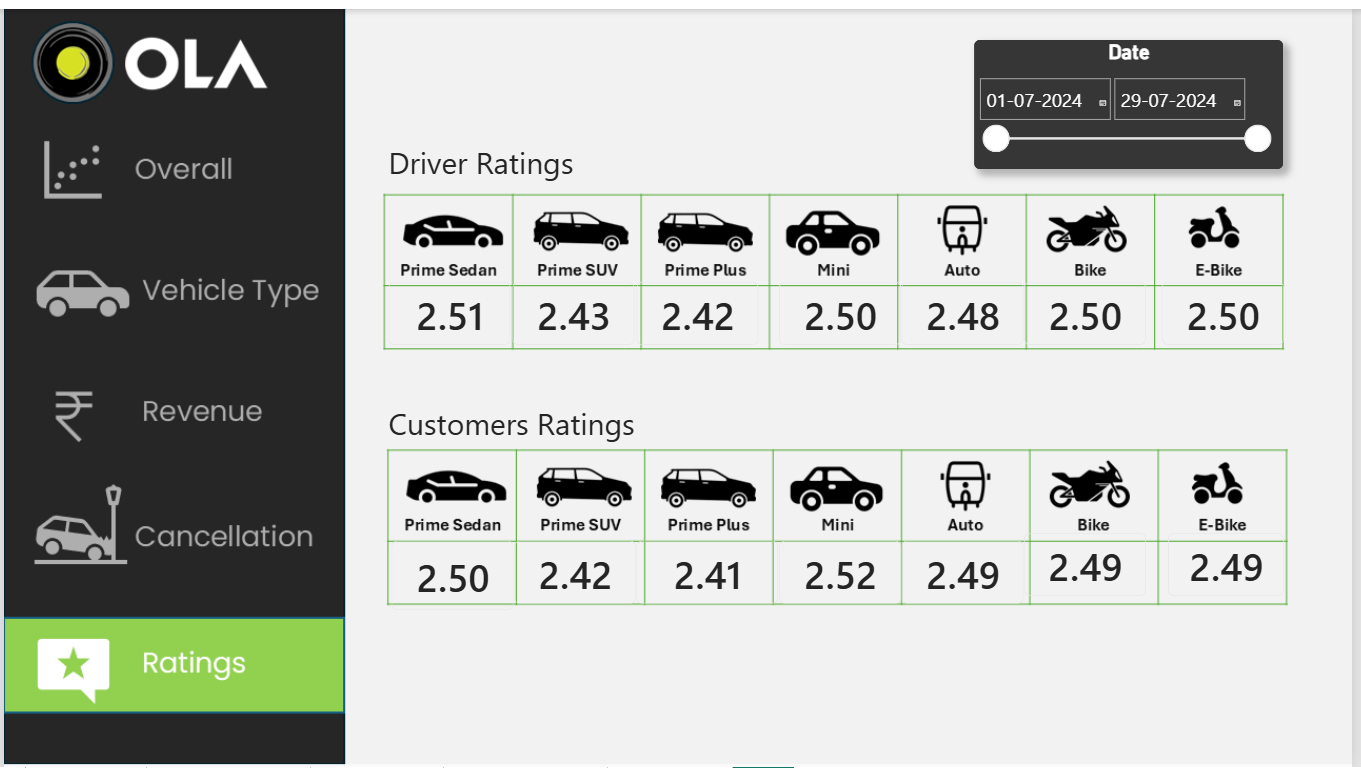

The page's visual inventory and layout, read from the dashboard file:
{"tool":"powerbi","page":{"name":"Ratings","canvas":[1920,1080],"ordinal":4},"visuals":[{"type":"actionButton","box":[0,161.2,486,133.5],"z":0},{"type":"actionButton","box":[0,347.5,486,133.5],"z":1000},{"type":"actionButton","box":[10.1,516.3,486,133.5],"z":2000},{"type":"actionButton","box":[10.1,679.9,486,133.5],"z":3000},{"type":"cardVisual","fields":{"Data":["Avg(bookings (2).Driver_Ratings)"]},"box":[548.8,389,174.9,90.5],"z":3001},{"type":"cardVisual","fields":{"Data":["Avg(bookings (2).Driver_Ratings)"]},"box":[901.6,389,174.9,90.5],"z":3003},{"type":"cardVisual","fields":{"Data":["Avg(bookings (2).Driver_Ratings)"]},"box":[1103.6,389,174.9,90.5],"z":3004},{"type":"cardVisual","fields":{"Data":["Avg(bookings (2).Driver_Ratings)"]},"box":[1278.5,389,174.9,90.5],"z":3005},{"type":"cardVisual","fields":{"Data":["Avg(bookings (2).Driver_Ratings)"]},"box":[1453.3,389,174.9,90.5],"z":3006},{"type":"cardVisual","fields":{"Data":["Avg(bookings (2).Driver_Ratings)"]},"box":[1649.3,389,174.9,90.5],"z":3007},{"type":"cardVisual","fields":{"Data":["Avg(bookings (2).Driver_Ratings)"]},"box":[723.7,389,174.9,90.5],"z":3008},{"type":"cardVisual","fields":{"Data":["Avg(bookings (2).Customer_Rating)"]},"box":[551.8,756.8,174.9,99.5],"z":3009},{"type":"cardVisual","fields":{"Data":["Avg(bookings (2).Customer_Rating)"]},"box":[1453.3,747.8,174.9,90.5],"z":3010},{"type":"cardVisual","fields":{"Data":["Avg(bookings (2).Customer_Rating)"]},"box":[1278.5,756.8,174.9,90.5],"z":3011},{"type":"cardVisual","fields":{"Data":["Avg(bookings (2).Customer_Rating)"]},"box":[1103.6,756.8,174.9,90.5],"z":3012},{"type":"cardVisual","fields":{"Data":["Avg(bookings (2).Customer_Rating)"]},"box":[901.6,756.8,202,90.5],"z":3013},{"type":"cardVisual","fields":{"Data":["Avg(bookings (2).Customer_Rating)"]},"box":[726.7,756.8,174.9,90.5],"z":3014},{"type":"cardVisual","fields":{"Data":["Avg(bookings (2).Customer_Rating)"]},"box":[1658.4,747.8,165.8,90.5],"z":3015},{"type":"textbox","box":[0,0,486,150],"z":3016},{"type":"textbox","box":[548.8,190,349.8,72.4],"z":3017},{"type":"textbox","box":[548.8,560.8,440.2,87.4],"z":3018},{"type":"slicer","title":"Date","fields":{"Values":["bookings (2).Date"]},"box":[1384,45.2,440.2,183.9],"z":3019}]}

Visuals, with their boxes in screenshot pixels (x1, y1, x2, y2), scaled from the page's 1920x1080 canvas onto the 1361x768 screenshot:
actionButton: Rect(0, 115, 345, 210)
actionButton: Rect(0, 247, 345, 342)
actionButton: Rect(7, 367, 352, 462)
actionButton: Rect(7, 483, 352, 578)
cardVisual - Avg(bookings (2).Driver_Ratings): Rect(389, 277, 513, 341)
cardVisual - Avg(bookings (2).Driver_Ratings): Rect(639, 277, 763, 341)
cardVisual - Avg(bookings (2).Driver_Ratings): Rect(782, 277, 906, 341)
cardVisual - Avg(bookings (2).Driver_Ratings): Rect(906, 277, 1030, 341)
cardVisual - Avg(bookings (2).Driver_Ratings): Rect(1030, 277, 1154, 341)
cardVisual - Avg(bookings (2).Driver_Ratings): Rect(1169, 277, 1293, 341)
cardVisual - Avg(bookings (2).Driver_Ratings): Rect(513, 277, 637, 341)
cardVisual - Avg(bookings (2).Customer_Rating): Rect(391, 538, 515, 609)
cardVisual - Avg(bookings (2).Customer_Rating): Rect(1030, 532, 1154, 596)
cardVisual - Avg(bookings (2).Customer_Rating): Rect(906, 538, 1030, 603)
cardVisual - Avg(bookings (2).Customer_Rating): Rect(782, 538, 906, 603)
cardVisual - Avg(bookings (2).Customer_Rating): Rect(639, 538, 782, 603)
cardVisual - Avg(bookings (2).Customer_Rating): Rect(515, 538, 639, 603)
cardVisual - Avg(bookings (2).Customer_Rating): Rect(1176, 532, 1293, 596)
textbox: Rect(0, 0, 345, 107)
textbox: Rect(389, 135, 637, 187)
textbox: Rect(389, 399, 701, 461)
"Date" slicer: Rect(981, 32, 1293, 163)
